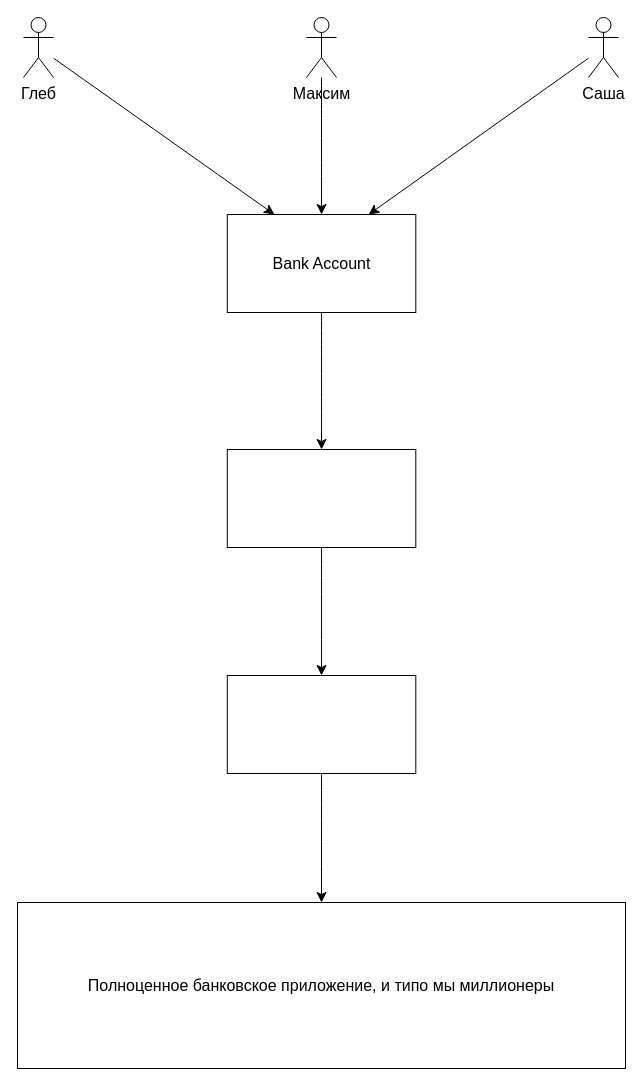
The diagram is 643 pixels wide and 1086 high, and some of its shapes have lost their labels. Here are the shapes that lost their labels. From the top down, the box of each, then its label:
(226, 448, 416, 548): Transaction
(226, 674, 416, 774): Client
